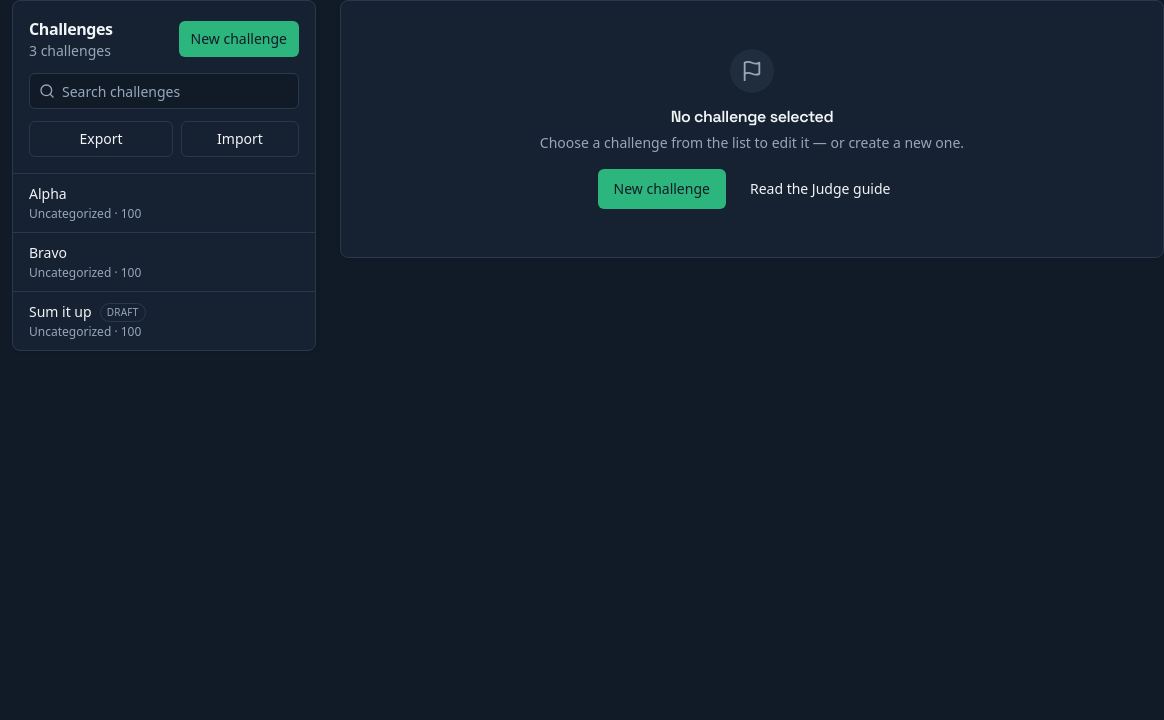
Test case: ChallengeAdmin programming challenges (#447) › explains that the judge needs setting up
This screenshot has width=1164, height=720.
Click the button "New challenge" in the row of "3 challenges": (239, 39) [179, 21, 299, 57]
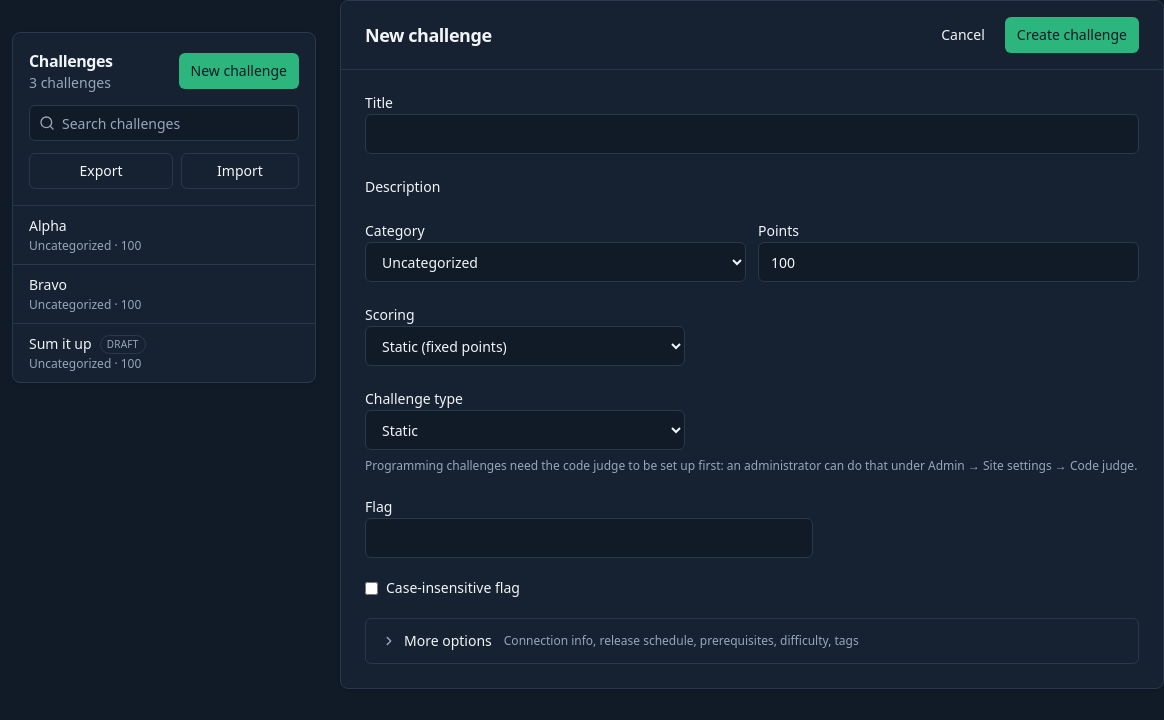
Check: the text "code judge to be set up first" is shown, box [365, 457, 1137, 474]
